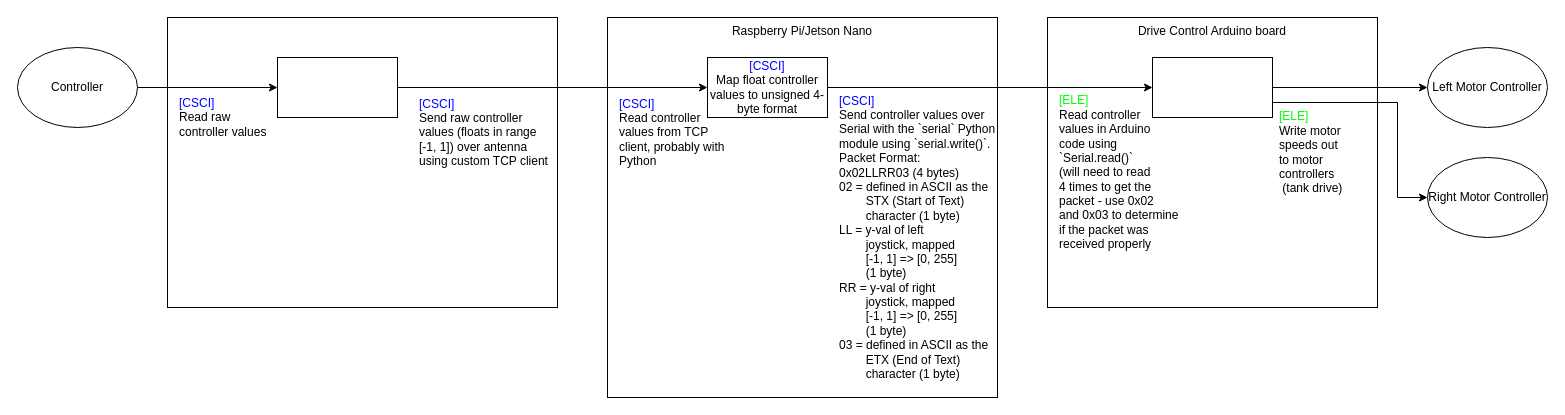
Image size: 1565x415. Some labels were removed from this diagram. The shapes that lost their labels are listed below. From the top down, each one's box as (x1, y1, x2, y2) in pixels, then its label:
(276, 56, 398, 118): [CSCI] TCP packet bundling done by GUI
(1152, 56, 1272, 118): [ELE] Process controller values into left and right motor speeds
(166, 16, 558, 308): Base Station
